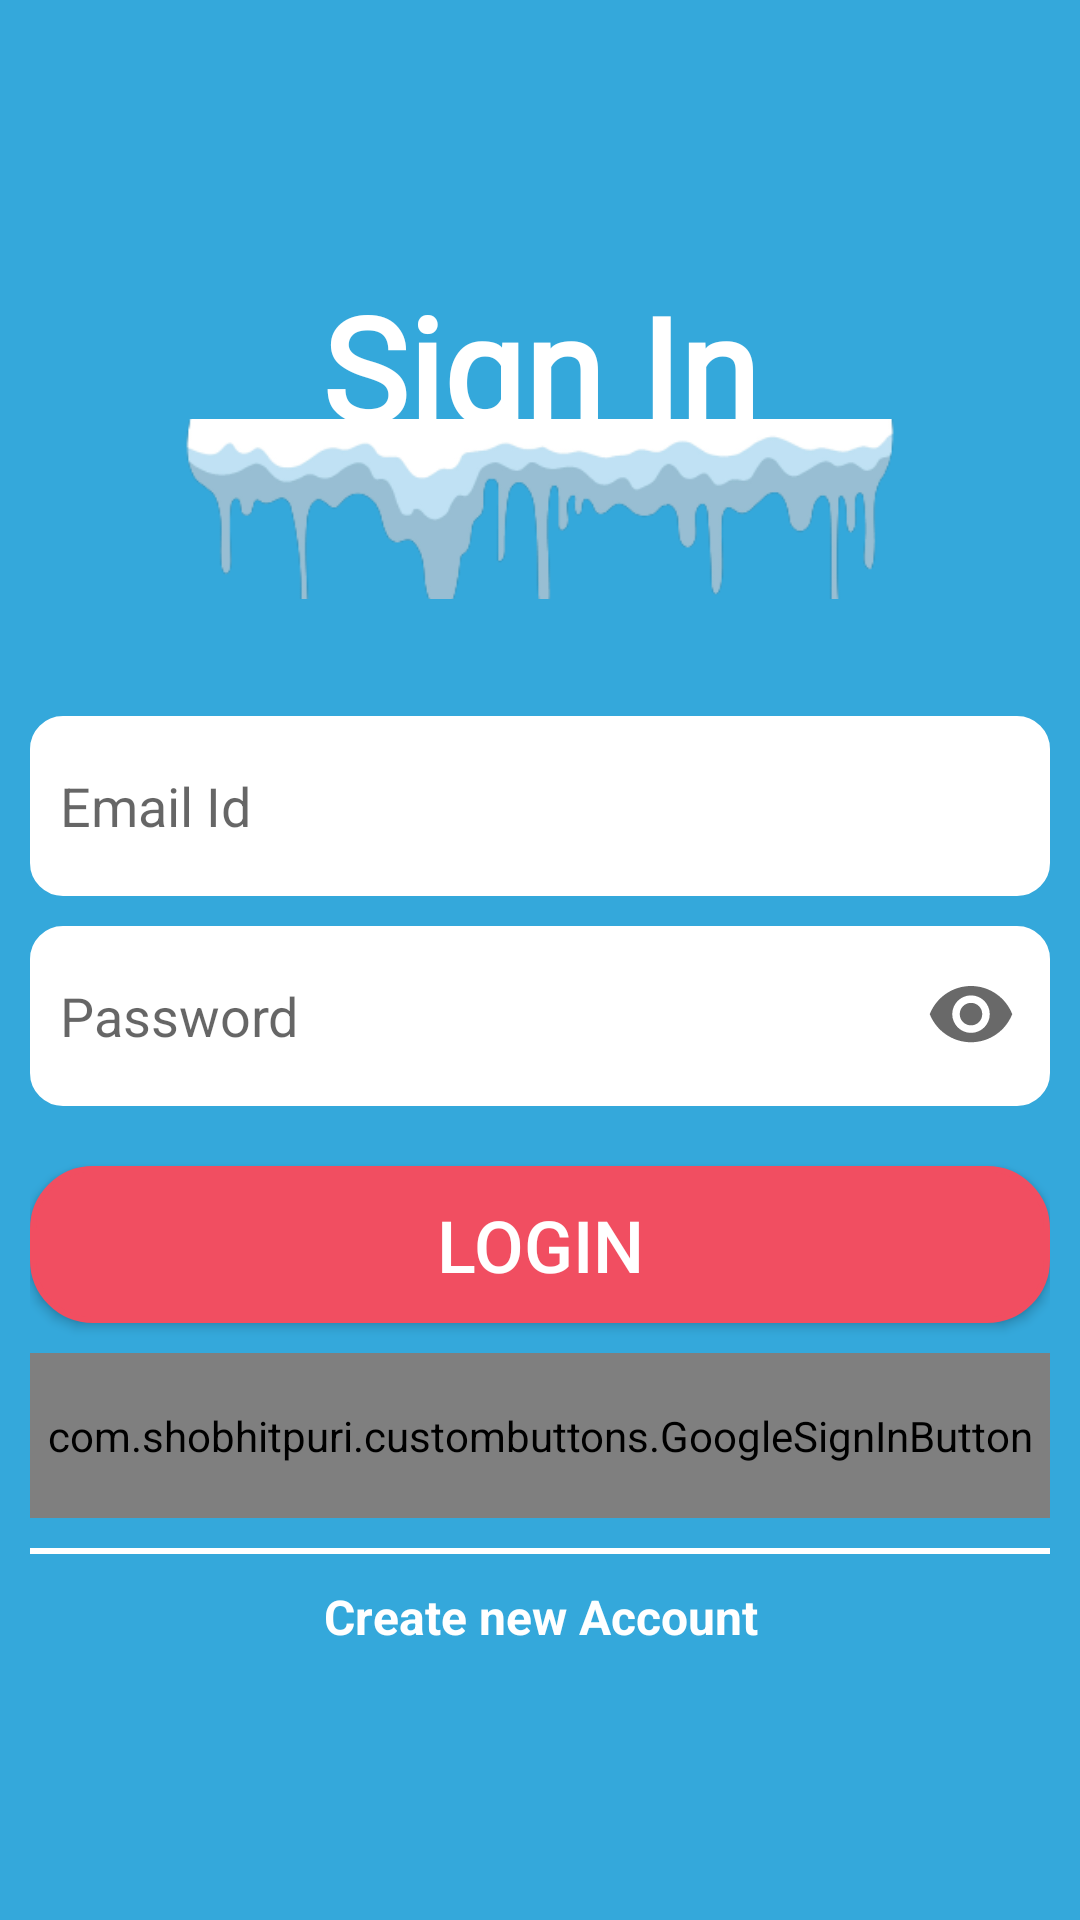

Where to tap for icons on this 1080*1920 app screen, as (x,y):
visibility: (971,1014)
